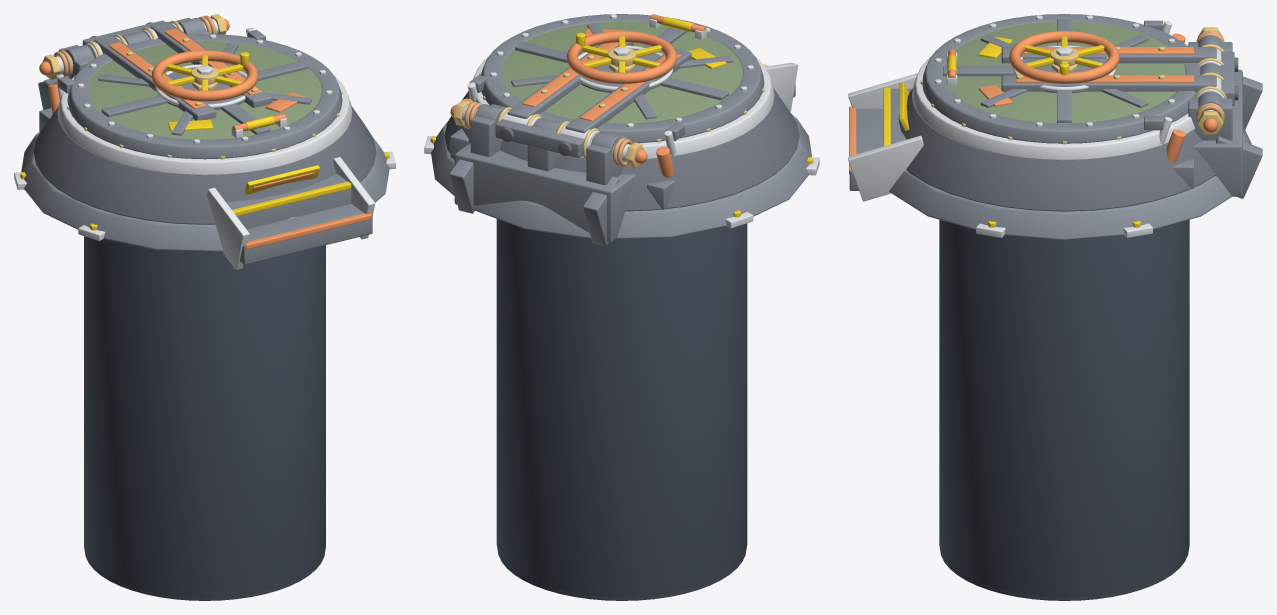
Rendered from SM_BunkerHatch.fbx.
3 views of the same model, side by side, from view 1: azimuth 30°, elevation 25°; view 2: azimuth 150°, elevation 25°; view 3: azimuth 270°, elevation 25° (orthographic). The views are drawn at different scales.
Visible parts, largest first — view 1: WellShaft_Deep, BunkerBaseBody, HatchLid_Hinge, LockWheel_Pivot; view 2: WellShaft_Deep, BunkerBaseBody, HatchLid_Hinge, LockWheel_Pivot, HydraulicPiston_Pivot; view 3: WellShaft_Deep, BunkerBaseBody, HatchLid_Hinge, LockWheel_Pivot, HydraulicPiston_Pivot.
Boxes of the visible parts, <box> form: WellShaft_Deep: <box>84,236,325,600</box>; BunkerBaseBody: <box>14,14,395,269</box>; HatchLid_Hinge: <box>67,20,342,159</box>; LockWheel_Pivot: <box>151,50,258,101</box>; WellShaft_Deep: <box>496,219,747,600</box>; BunkerBaseBody: <box>424,56,819,246</box>; HatchLid_Hinge: <box>481,14,764,159</box>; LockWheel_Pivot: <box>566,31,677,83</box>; HydraulicPiston_Pivot: <box>467,75,684,157</box>; WellShaft_Deep: <box>939,219,1189,600</box>; BunkerBaseBody: <box>848,27,1262,240</box>; HatchLid_Hinge: <box>922,14,1238,143</box>; LockWheel_Pivot: <box>1009,31,1119,84</box>; HydraulicPiston_Pivot: <box>1144,20,1172,146</box>.
Bounding box in the file's own units: 191 × 274 × 204.
